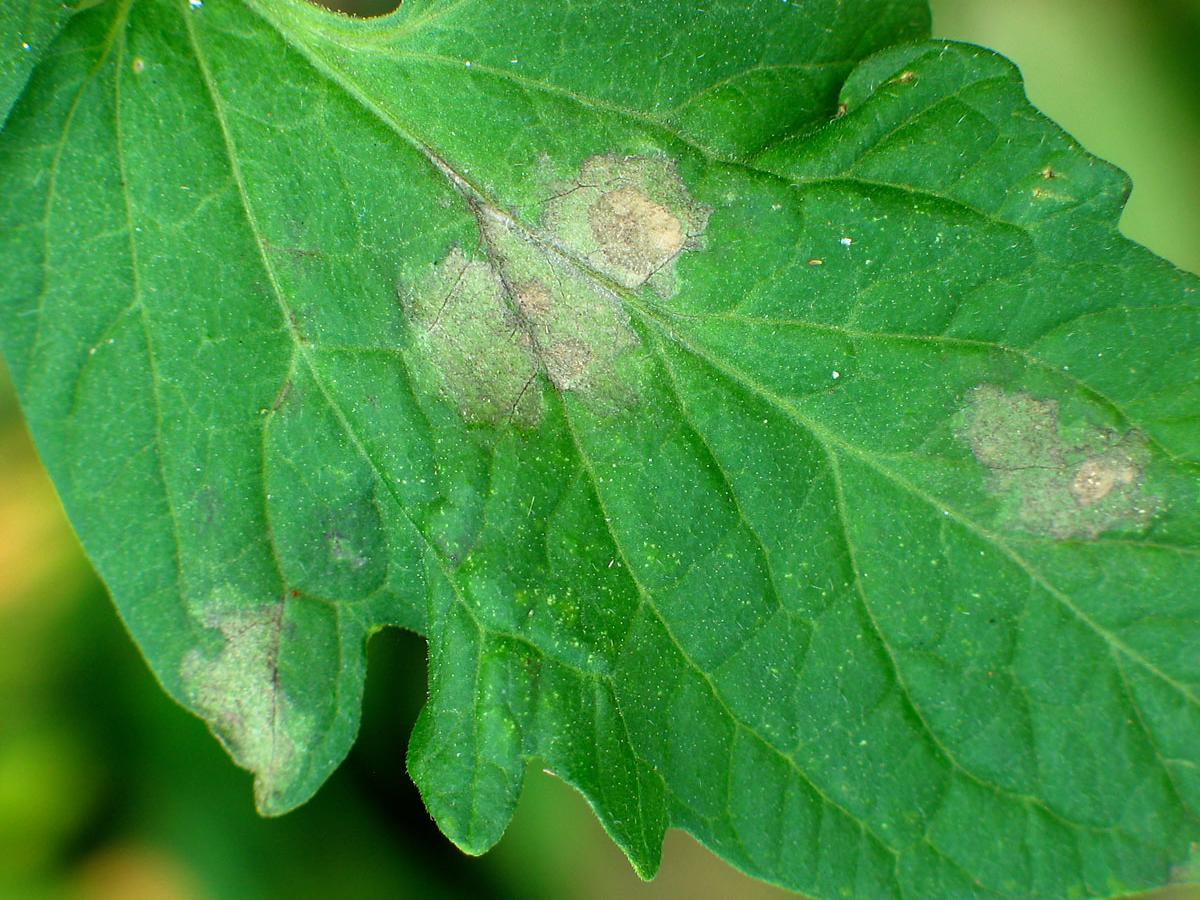Tomato leaf late blight: (35, 18, 1194, 885)
